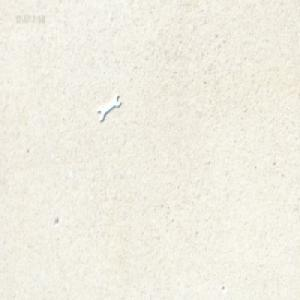Wrench: (97, 94, 120, 123)
